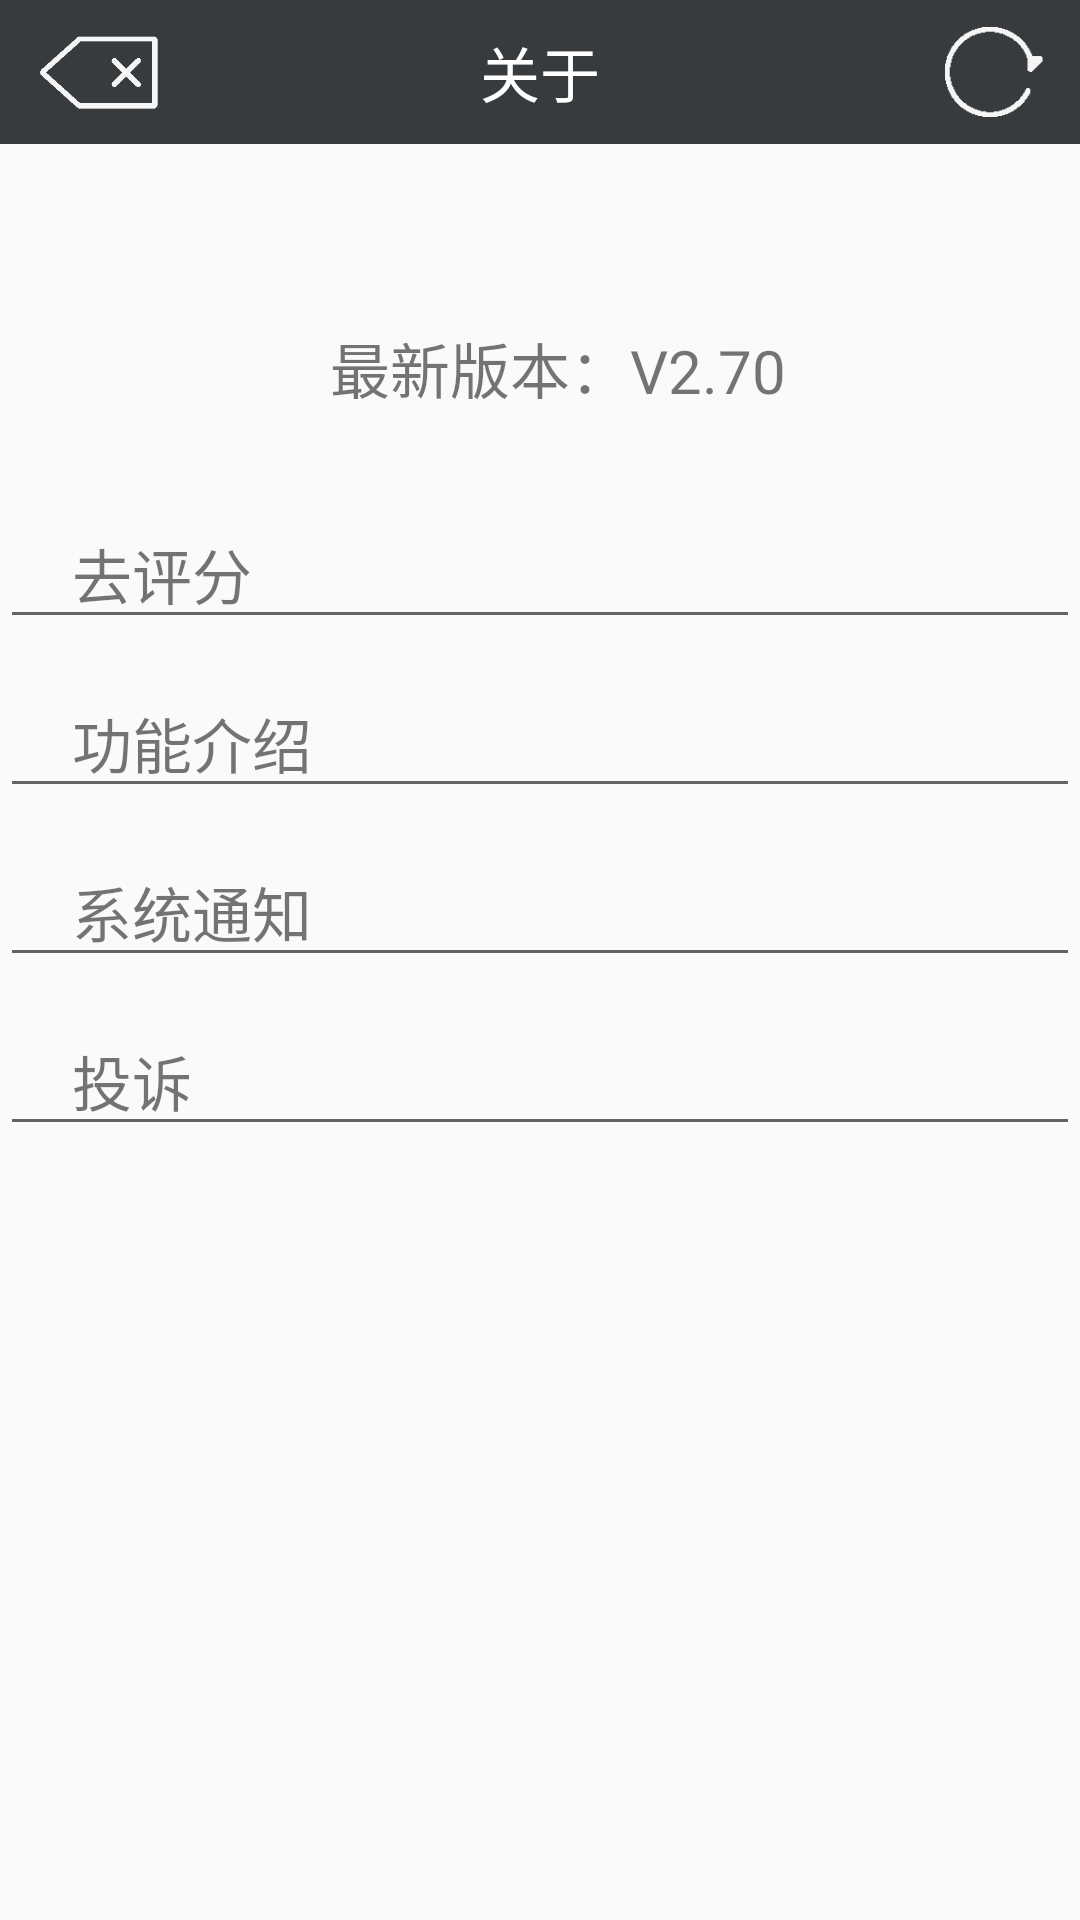

Screen size 1080w x 1920h. Icon name, then its center in pixels as [x,y]:
shuaxin: [994,72]
